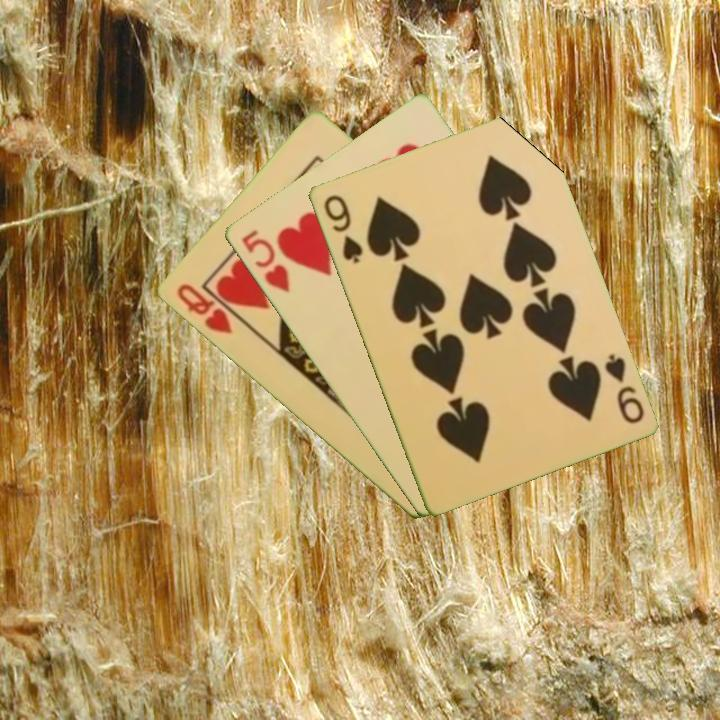5h: (237, 225, 292, 295)
9s: (600, 350, 647, 427), (319, 191, 365, 267)
Qh: (172, 280, 235, 338)
